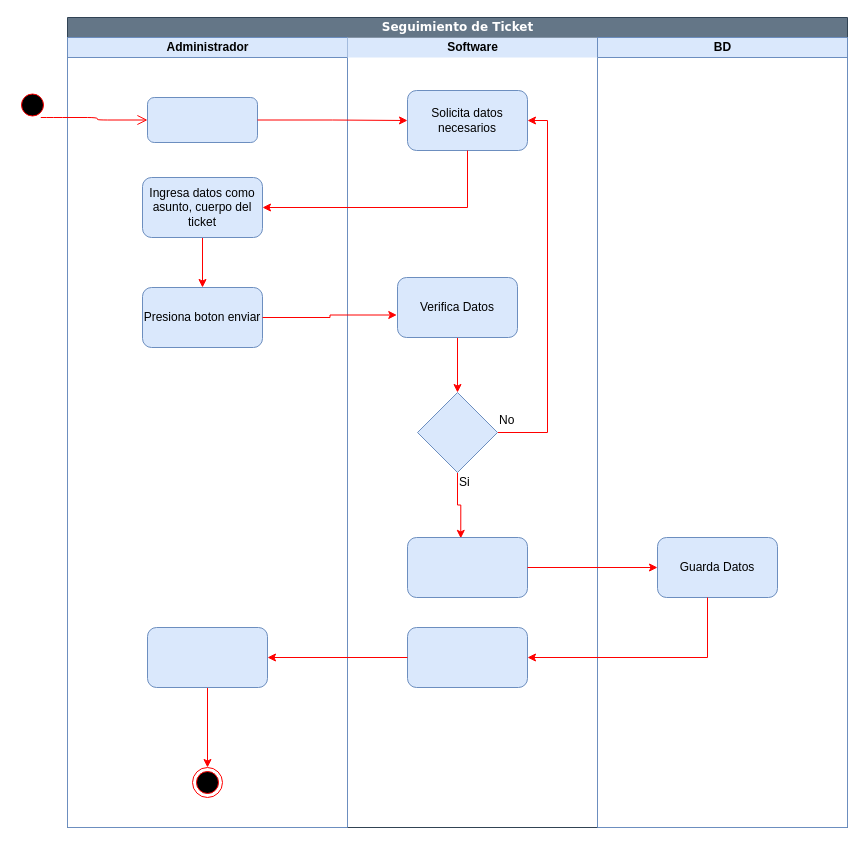
Image size: 865x845. Some labels were removed from this diagram. Each missing label, with the centre of its shape:
Datos Correctos?: (x=457, y=432)
Envia datos: (x=467, y=567)
ingresa al modulo crear ticket: (x=202, y=119)
Muestra mensaje de Guardado: (x=467, y=657)
Visualiza mensaje: (x=207, y=657)
